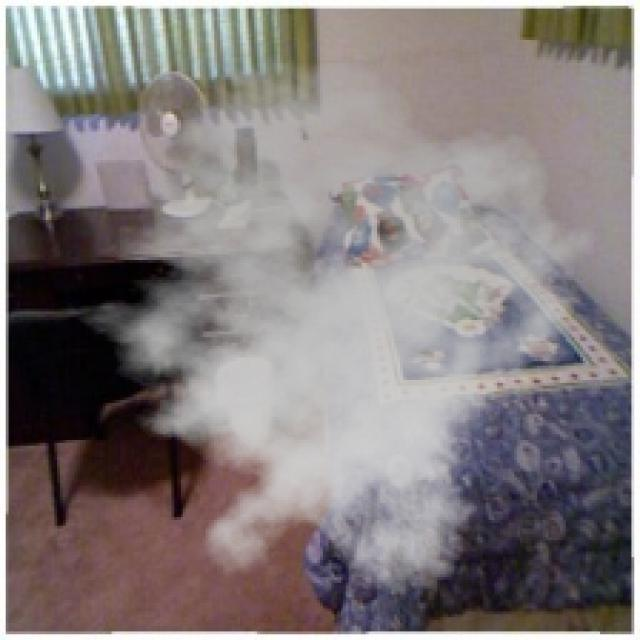Smoke: (54, 57, 609, 597)
